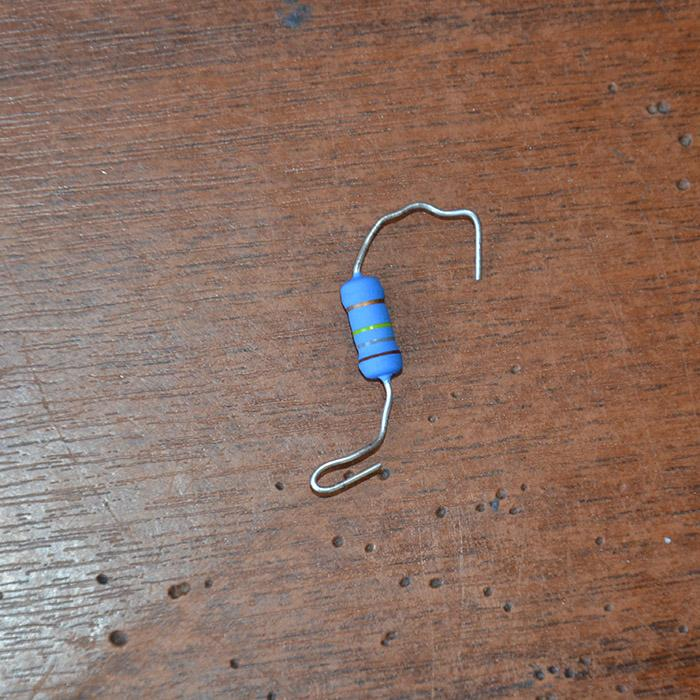resistor: (338, 273, 402, 380)
